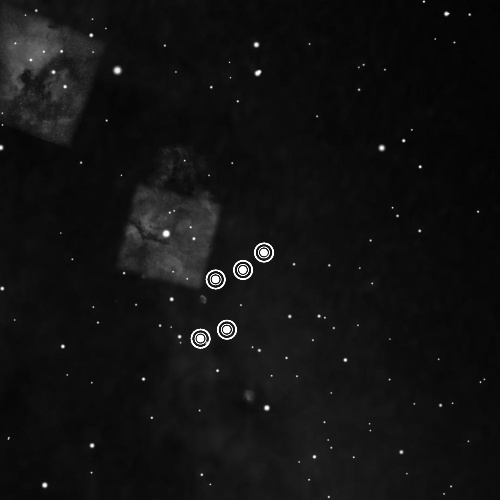lyra: (185, 233, 284, 357)
